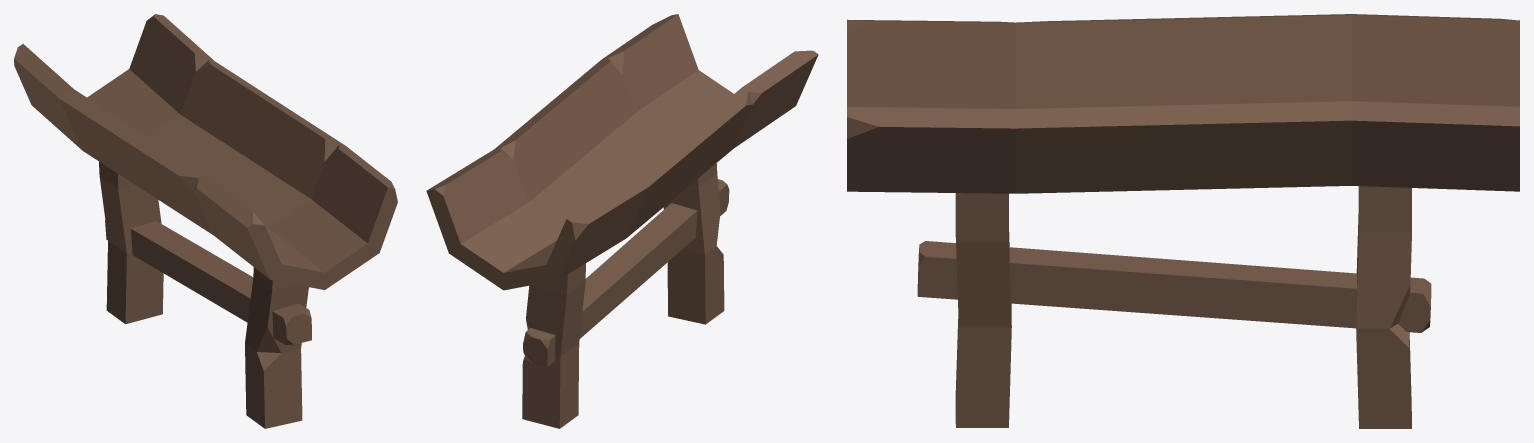
Rendered from Pipe_1.fbx.
The picture shows the model from 3 angles, left to right: view 1: azimuth 30°, elevation 25°; view 2: azimuth 150°, elevation 25°; view 3: azimuth 270°, elevation 25°; orthographic projection. The views are drawn at different scales.
Parts seen in each view (by area): view 1: 1; view 2: 1; view 3: 1.
Boxes of the visible parts, x1=… form: 1: x1=14, y1=14, x2=397, y2=428; 1: x1=426, y1=14, x2=818, y2=428; 1: x1=847, y1=14, x2=1519, y2=428.
Size of the model in its own units: 0.8058 by 1.16 by 2.
